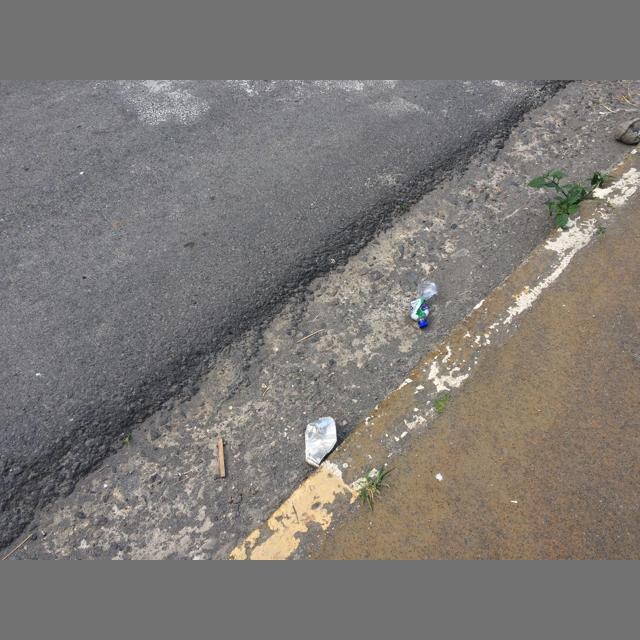litter: (305, 416, 337, 468), (410, 281, 438, 328), (418, 322, 428, 328), (599, 111, 605, 115)
